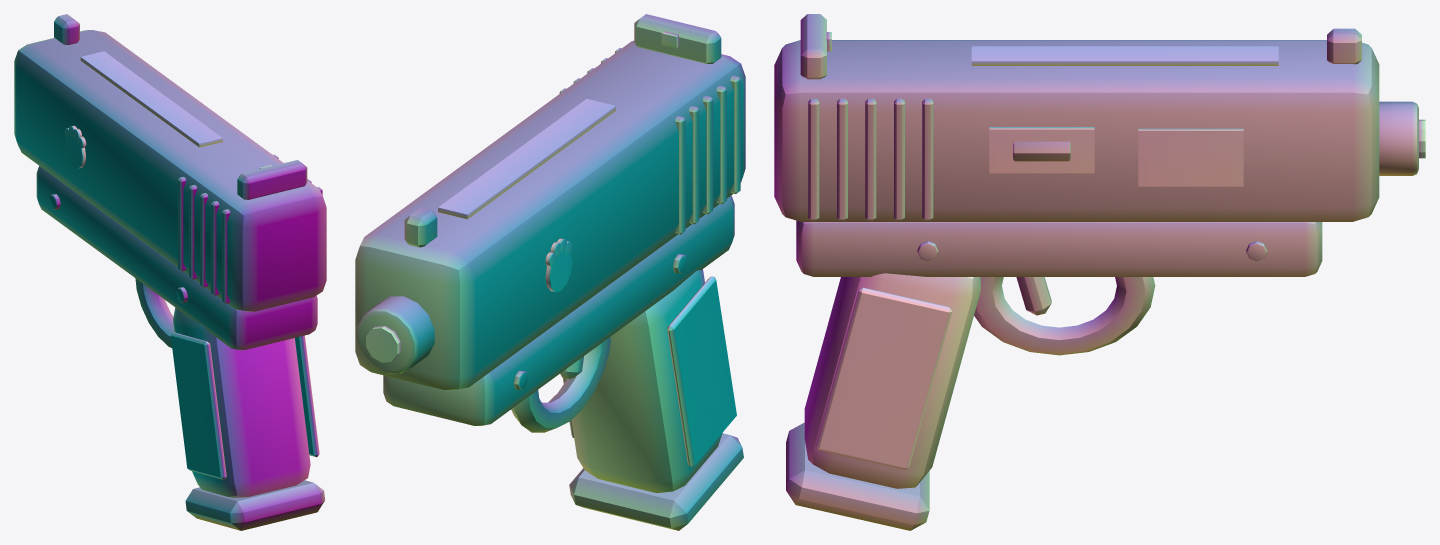
Rendered from wpn_pistol.glb.
3 views of the same model, side by side, from view 1: azimuth 30°, elevation 25°; view 2: azimuth 150°, elevation 25°; view 3: azimuth 270°, elevation 25° (orthographic). The views are drawn at different scales.
Parts seen in each view (by area): view 1: wpn_pistol_mesh; view 2: wpn_pistol_mesh; view 3: wpn_pistol_mesh.
Boxes of the visible parts, x1,y1,x2,y2 form: wpn_pistol_mesh: (14,14,326,530); wpn_pistol_mesh: (355,14,745,530); wpn_pistol_mesh: (774,14,1425,530).
Bounding box in the file's own units: 0.0364 × 0.1196 × 0.1485.
